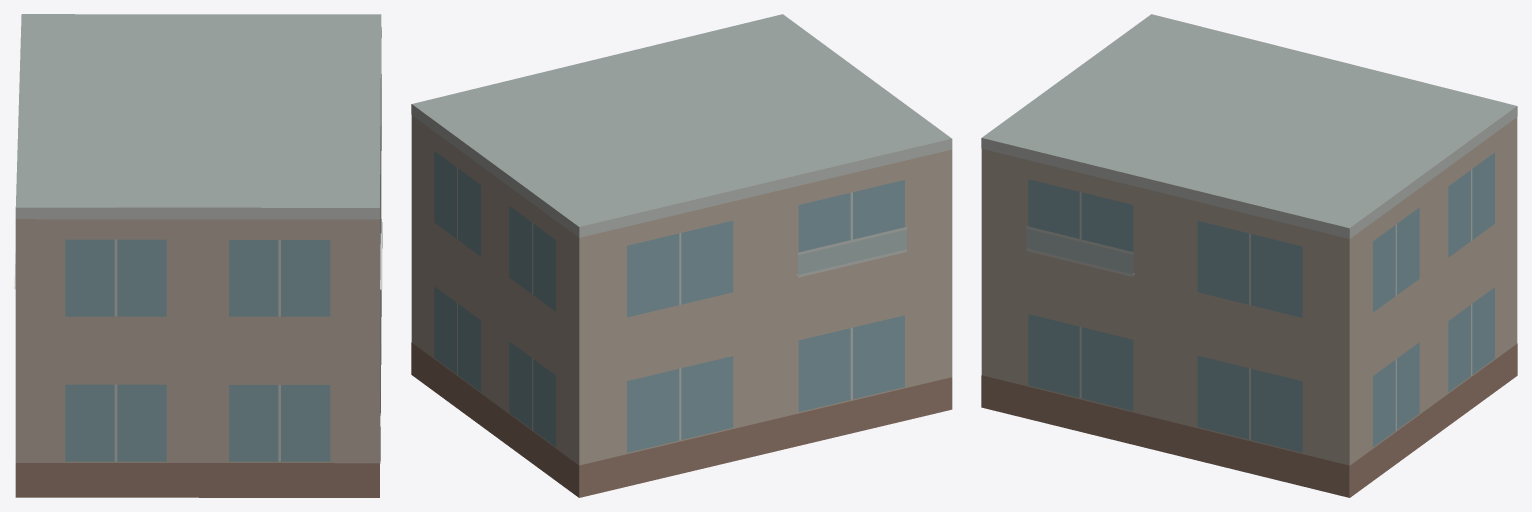
Rendered from survey-upis-32951053.glb.
3 views of the same model, side by side, from view 1: azimuth 30°, elevation 25°; view 2: azimuth 150°, elevation 25°; view 3: azimuth 270°, elevation 25° (orthographic). The views are drawn at different scales.
Parts seen in each view (by area): view 1: survey-upis-32951053.tmp; view 2: survey-upis-32951053.tmp; view 3: survey-upis-32951053.tmp.
Part boxes in pixels (box(x1,y1,x2,y2)): survey-upis-32951053.tmp: box(14, 14, 382, 497); survey-upis-32951053.tmp: box(411, 14, 952, 497); survey-upis-32951053.tmp: box(981, 14, 1517, 497).
Size of the model in its own units: 10.41 by 6.1 by 11.
